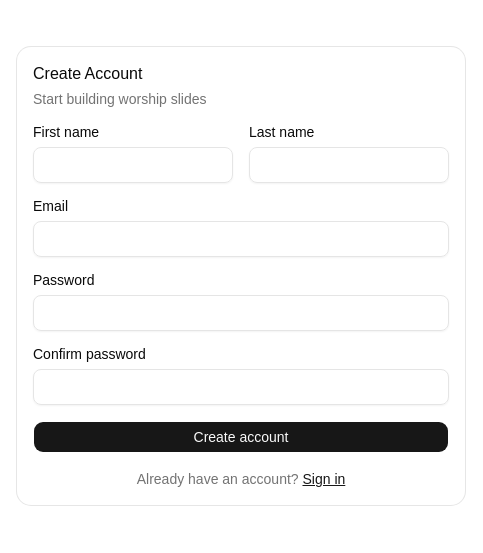
Test: SignupPage › shows a generic error for non-Error failures
In the field labelled "First name": coordinates (133, 165) x1=33 y1=147 x2=233 y2=183, type "Jay"
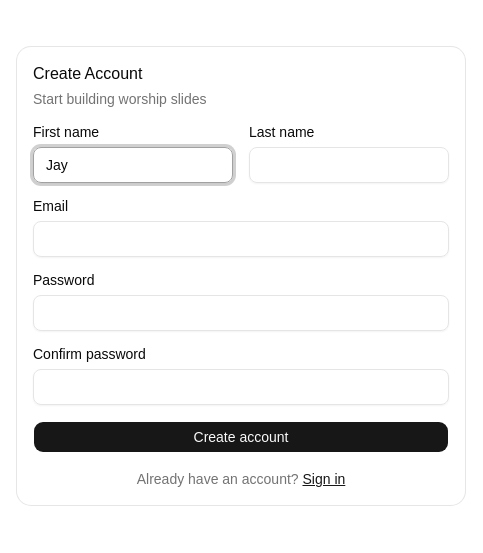
In the field labelled "Last name": coordinates (349, 165) x1=249 y1=147 x2=449 y2=183, type "Ray"
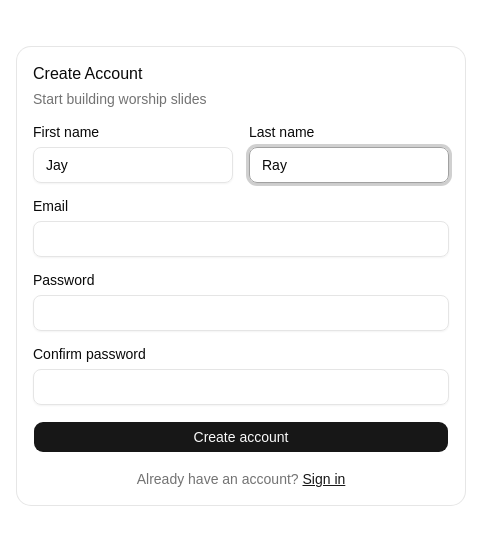
In the field labelled "Email": coordinates (241, 239) x1=33 y1=221 x2=449 y2=257, type "jay@example.com"
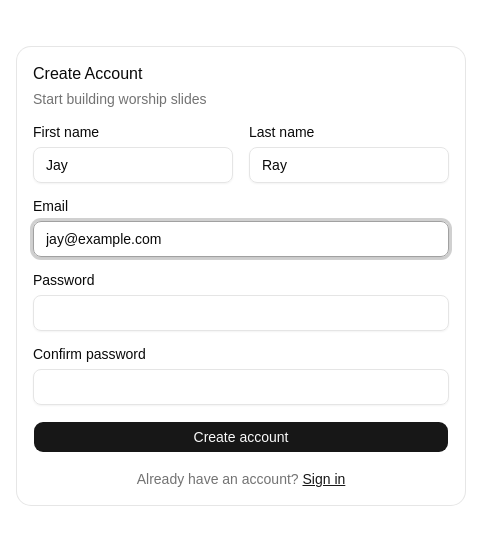
In the password field labelled "Password": coordinates (241, 313) x1=33 y1=295 x2=449 y2=331, type "secret1"
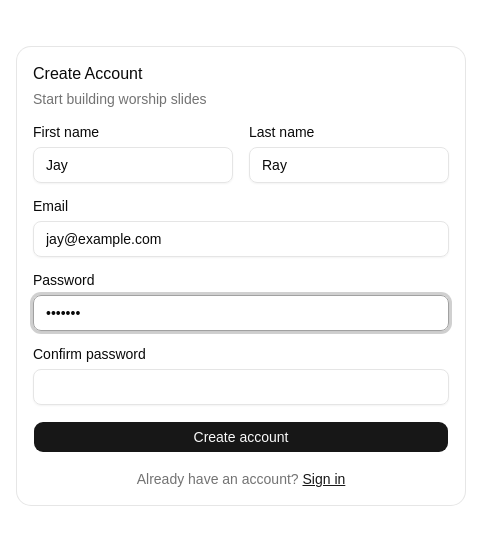
In the password field labelled "Confirm password": coordinates (241, 387) x1=33 y1=369 x2=449 y2=405, type "secret1"
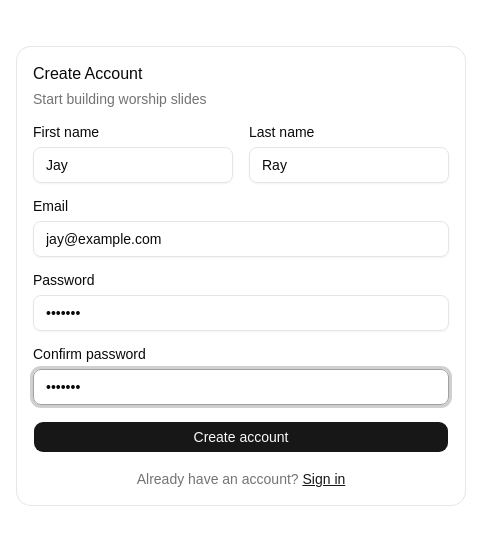
Click the button "Create account": coordinates (241, 437) x1=33 y1=421 x2=449 y2=453
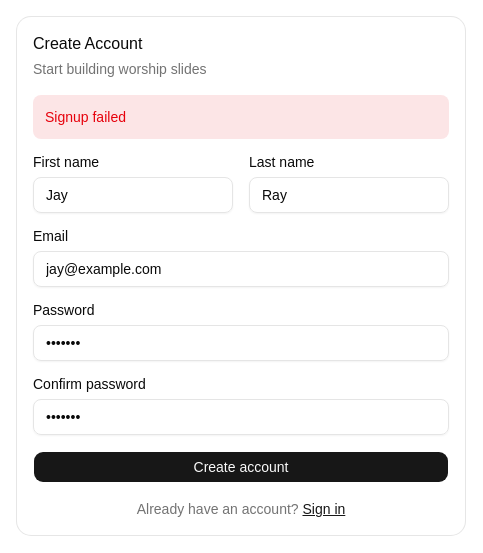
Expected: the text "Signup failed" is shown, x1=33 y1=95 x2=449 y2=139
